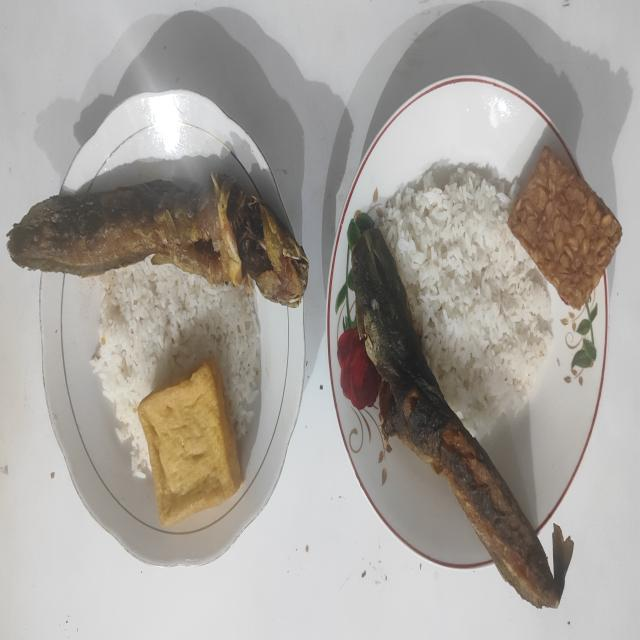nasi_putih: (379, 163, 552, 434), (82, 260, 260, 475)
tahu_goreng: (137, 358, 243, 526)
tempe_goreng: (508, 146, 622, 310)
